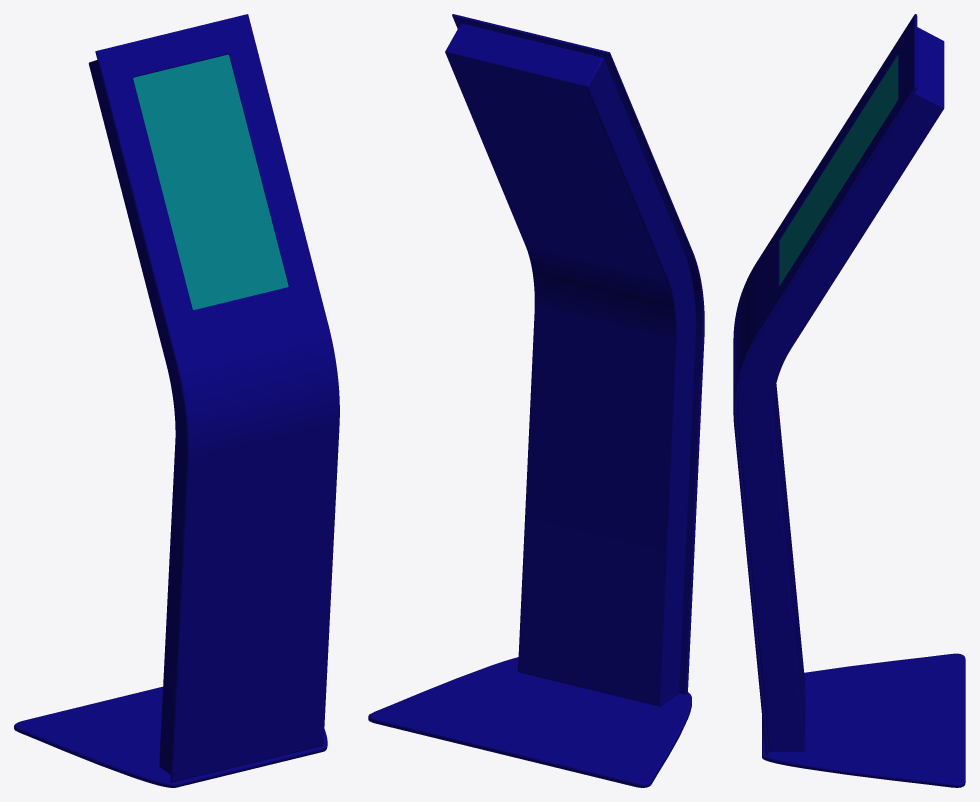
3 renders of one model, left to right at view 1: azimuth 30°, elevation 25°; view 2: azimuth 150°, elevation 25°; view 3: azimuth 270°, elevation 25°, orthographic. The views are drawn at different scales.
Visible parts, largest first — view 1: SX_19_vert_LOW; view 2: SX_19_vert_LOW; view 3: SX_19_vert_LOW.
Part boxes in pixels (x1,y1,x2,y2): SX_19_vert_LOW: (14, 14, 339, 787); SX_19_vert_LOW: (368, 14, 704, 787); SX_19_vert_LOW: (733, 14, 965, 787).
Size of the model in its own units: 548 by 1312 by 411.
